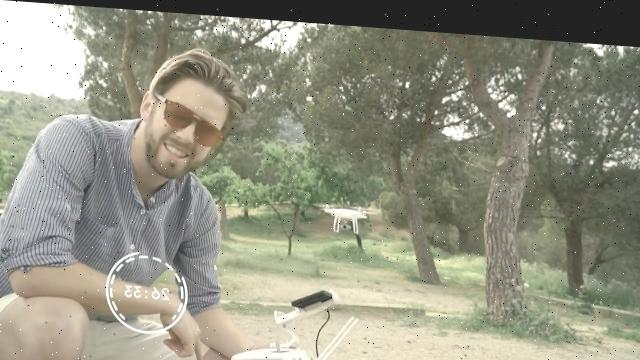drone: (313, 193, 377, 231)
